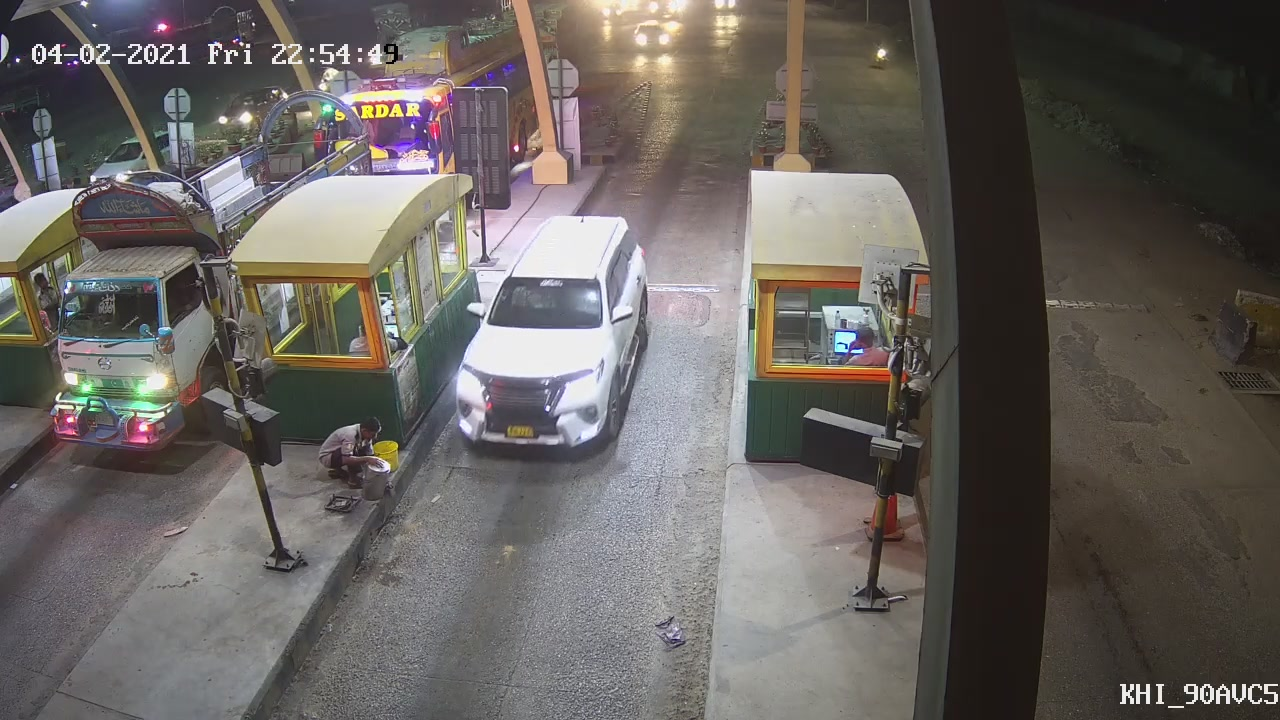F1: (447, 206, 647, 457)
